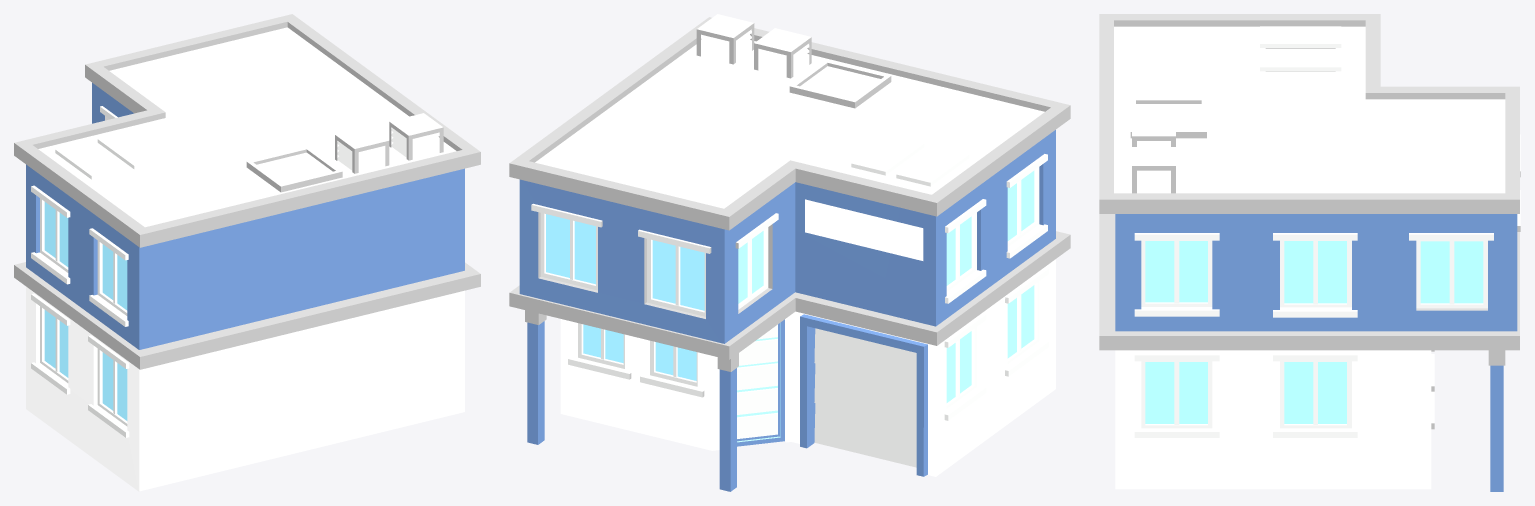
File: purpose.007.glb
3 views of the same model, side by side, from view 1: azimuth 30°, elevation 25°; view 2: azimuth 150°, elevation 25°; view 3: azimuth 270°, elevation 25° (orthographic). The views are drawn at different scales.
Parts seen in each view (by area): view 1: purpose.007(Clone); view 2: purpose.007(Clone); view 3: purpose.007(Clone).
Boxes of the visible parts, left/top/right/bottom form: purpose.007(Clone): left=14, top=14, right=480, bottom=491; purpose.007(Clone): left=509, top=14, right=1070, bottom=491; purpose.007(Clone): left=1099, top=14, right=1520, bottom=491.
Bounding box in the file's own units: 7.94 × 6.35 × 7.61.
1 material, 1 textured.
